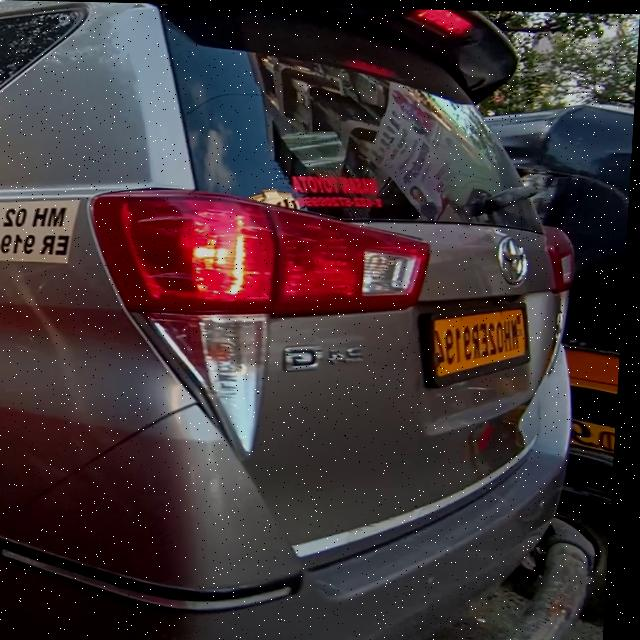plate: (425, 298, 539, 386), (0, 193, 85, 268)
